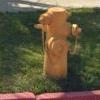a fire hydrant: (41, 7, 73, 81)
